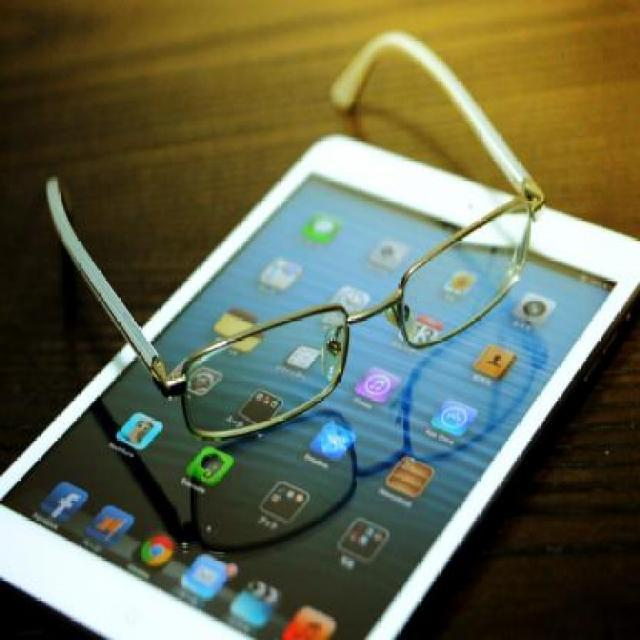phone: (0, 97, 617, 634)
